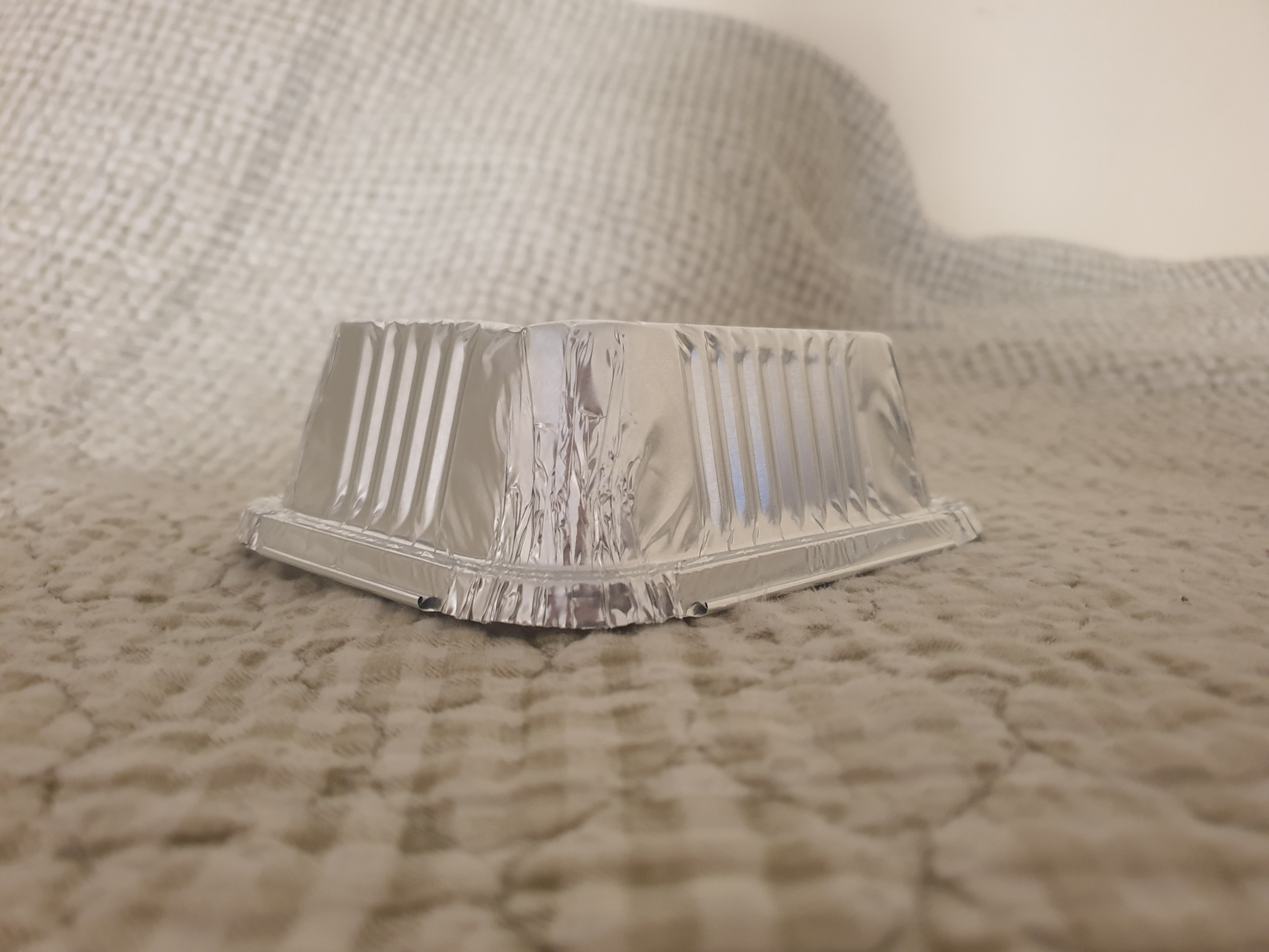Metal: (221, 304, 990, 646)
